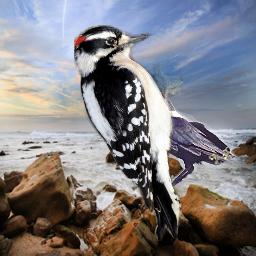Crow: (129, 89, 239, 192)
Woodpecker: (74, 25, 183, 241)
